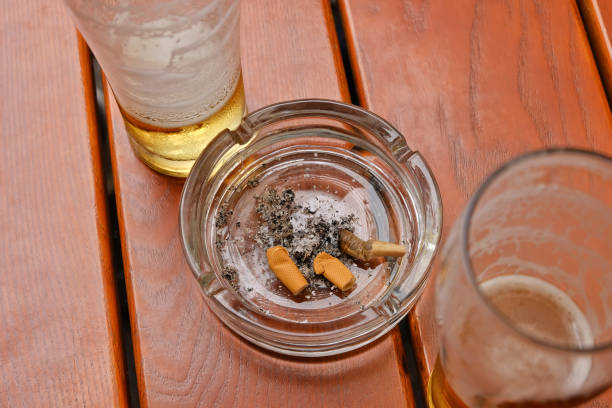alcohol: (430, 146, 612, 408), (61, 0, 246, 182)
cigarette: (328, 224, 409, 265), (265, 245, 309, 296), (312, 252, 357, 291)
